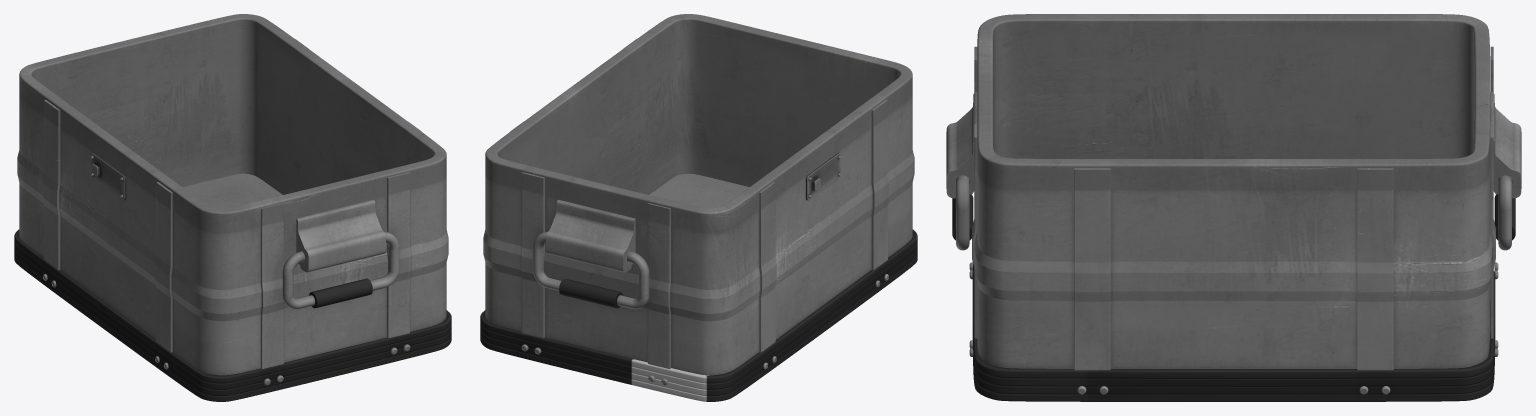
Rendered from Chest.fbx.
3 renders of one model, left to right at view 1: azimuth 30°, elevation 25°; view 2: azimuth 150°, elevation 25°; view 3: azimuth 270°, elevation 25°, orthographic. The views are drawn at different scales.
Parts seen in each view (by area): view 1: Cube; view 2: Cube; view 3: Cube.
Boxes of the visible parts, x1=… form: Cube: x1=14, y1=14, x2=451, y2=401; Cube: x1=480, y1=14, x2=917, y2=401; Cube: x1=946, y1=14, x2=1521, y2=401.
Bounding box in the file's own units: 72.92 × 50.86 × 112.
1 material, 1 textured.
